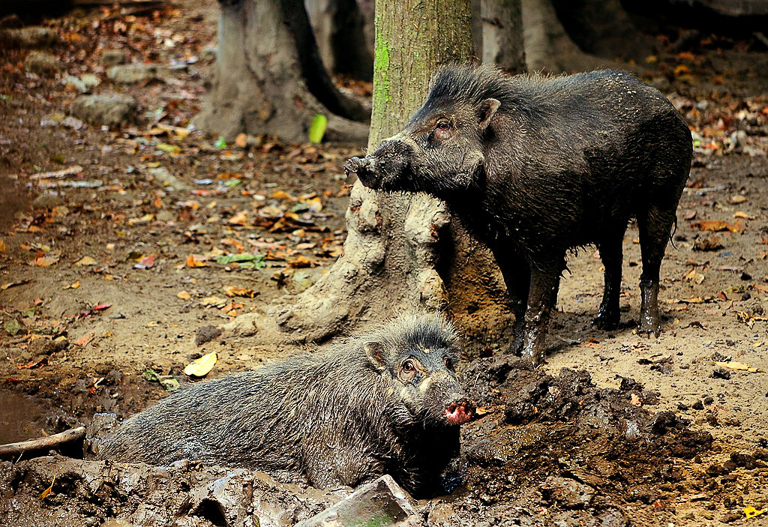boar: (338, 55, 700, 363), (92, 306, 494, 491)
